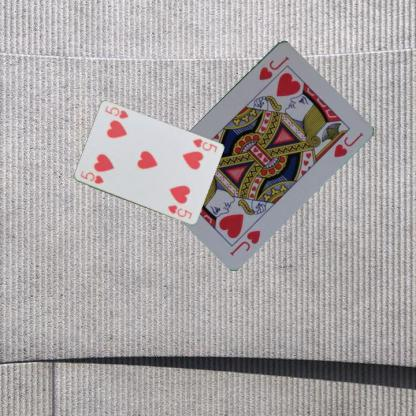5h: (190, 136, 218, 154), (78, 168, 104, 185)
Jh: (227, 227, 262, 257), (256, 53, 291, 82)
